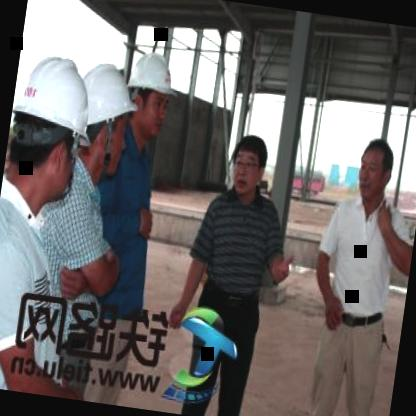head: (223, 126, 274, 201), (350, 132, 399, 208)
helmet: (0, 38, 106, 221), (67, 57, 140, 190), (122, 45, 182, 138)
